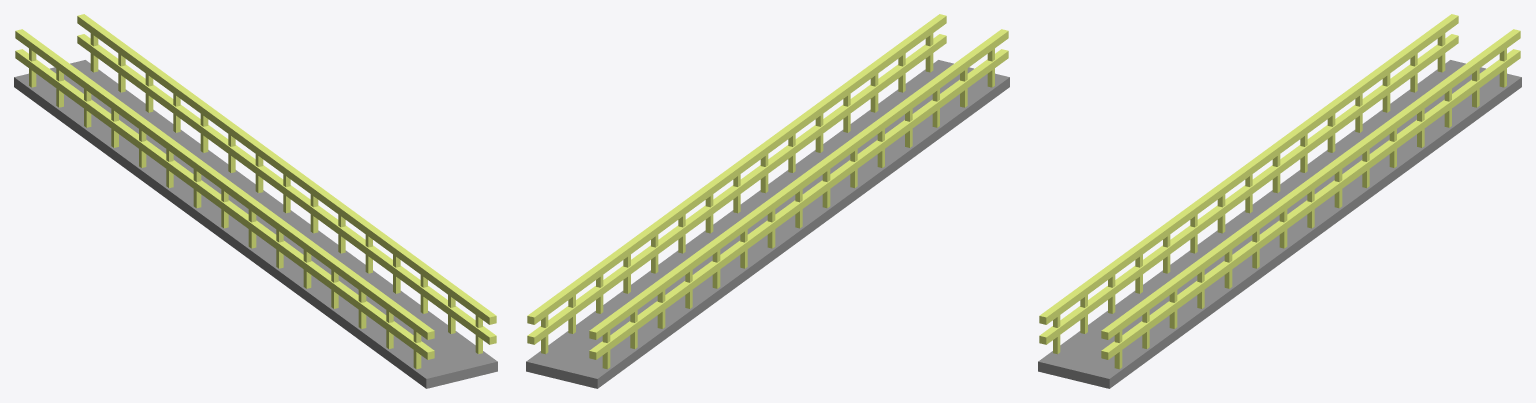
Rendered from Catwalk.fbx.
3 renders of one model, left to right at view 1: azimuth 30°, elevation 25°; view 2: azimuth 150°, elevation 25°; view 3: azimuth 330°, elevation 25°, orthographic.
Visible parts, largest first — view 1: Cube, Cube.002, Cube.003; view 2: Cube, Cube.002, Cube.003; view 3: Cube, Cube.003, Cube.002.
Part boxes in pixels (<box>): Cube: <box>14,60,497,388</box>; Cube.002: <box>15,29,434,369</box>; Cube.003: <box>77,14,496,354</box>; Cube: <box>526,60,1009,388</box>; Cube.002: <box>589,29,1008,369</box>; Cube.003: <box>527,14,946,354</box>; Cube: <box>1038,60,1521,388</box>; Cube.003: <box>1101,29,1520,369</box>; Cube.002: <box>1039,14,1458,354</box>.
Size of the model in its own units: 300 by 225 by 3000.
